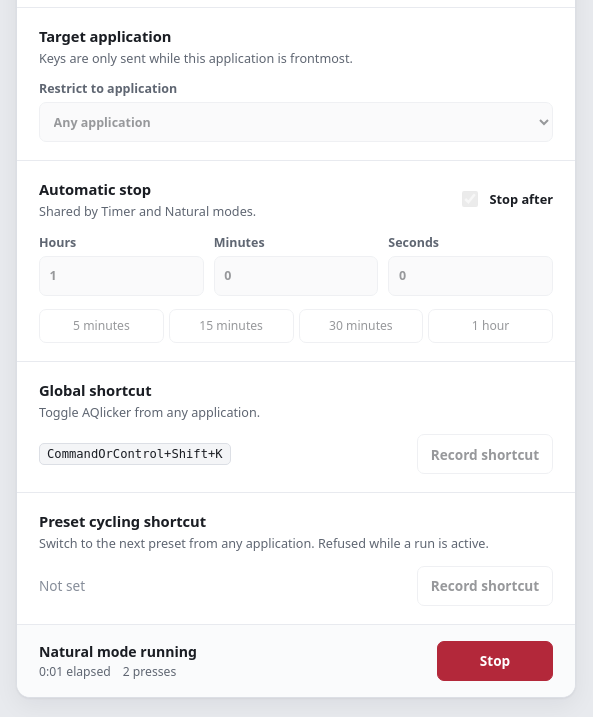
App › locks and unlocks from backend events without ever resuming a run
(page scrolled)
Click the button "Stop": click(495, 661) [437,641,553,681]
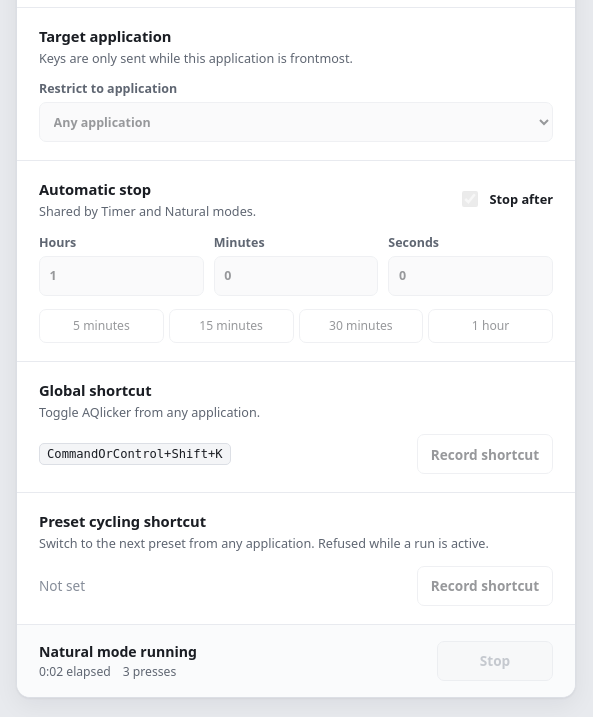
Click the button "Stop": click(495, 661) [437,641,553,681]
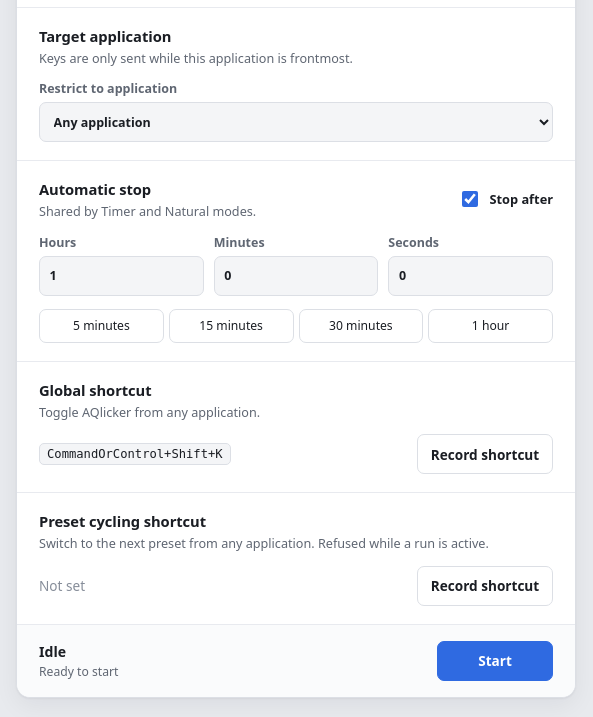
Expected: the button "Start" is enabled, [437,641,553,681]
